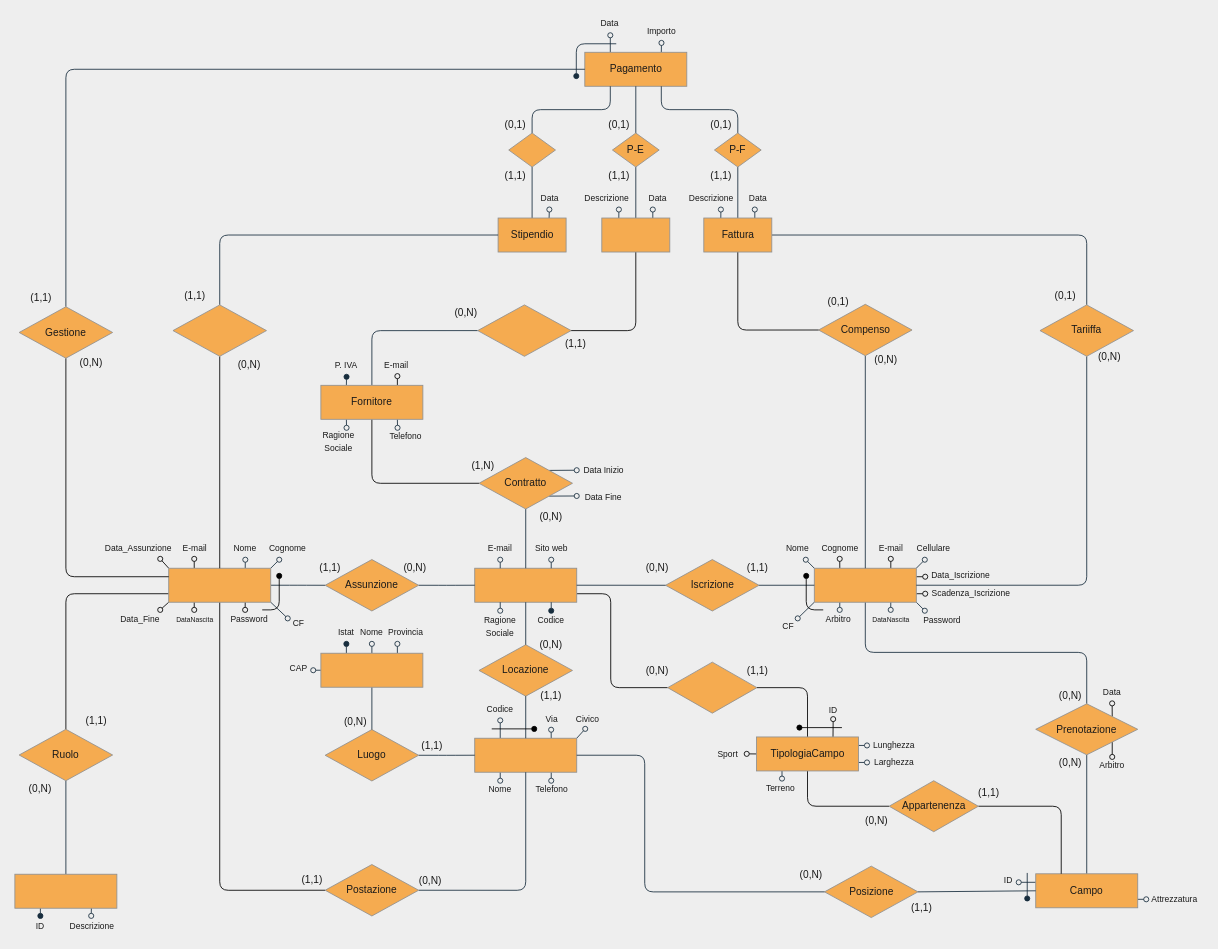
Some shapes in this 1218 by 949 pixel diagram are drawn without their labels. The centre of each missing label's shape, as x and y in pixels:
"Associazione" goes at [525,584].
"Città" goes at [371,669].
"Dipendente" goes at [219,584].
"Esborso" goes at [635,234].
"Grado" goes at [65,890].
"P-S" goes at [531,149].
"Registrazione" goes at [712,687].
"Ricezione" goes at [219,330].
"Sede" goes at [525,754].
"Storno" goes at [524,330].
"Tesserino" goes at [864,584].
